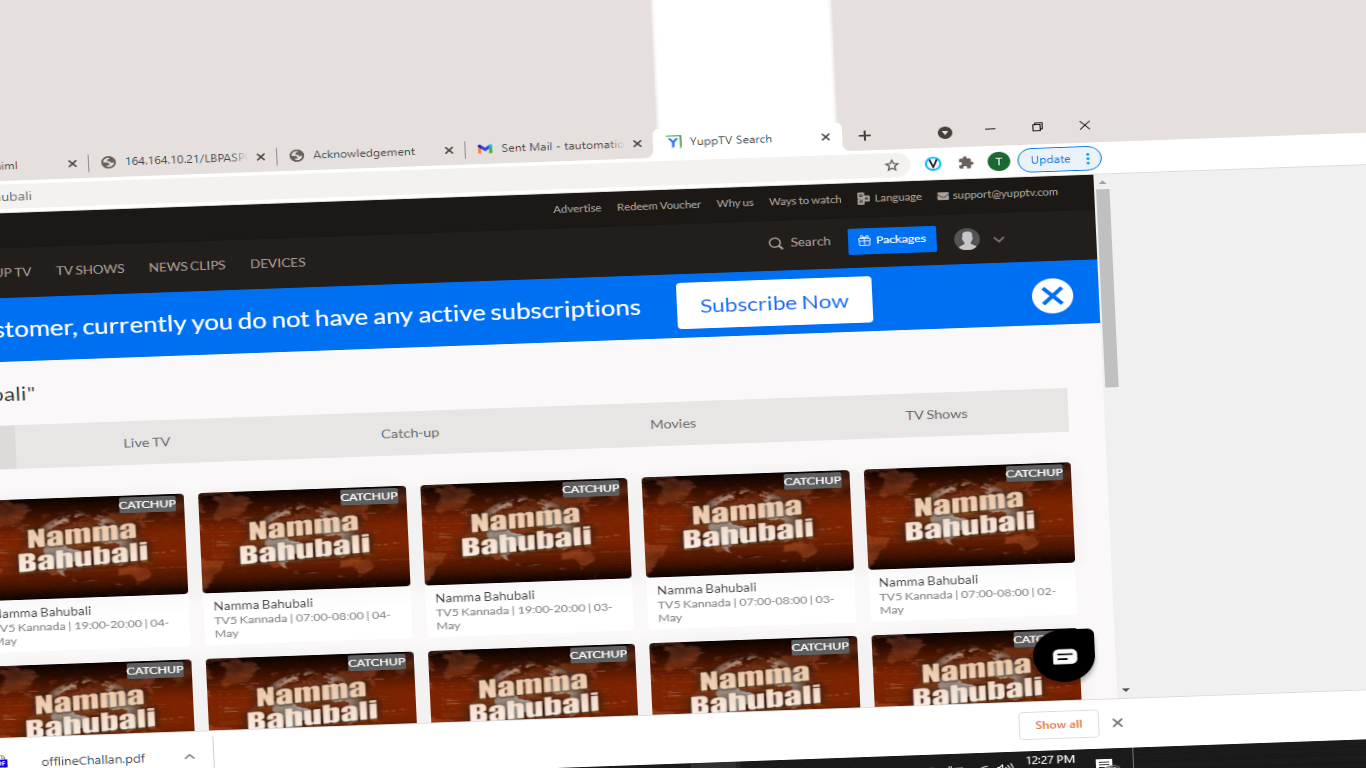profileicon: (940, 216, 1015, 255)
resultsfound: (1, 381, 51, 420)
searchtextbox: (746, 223, 846, 260)
